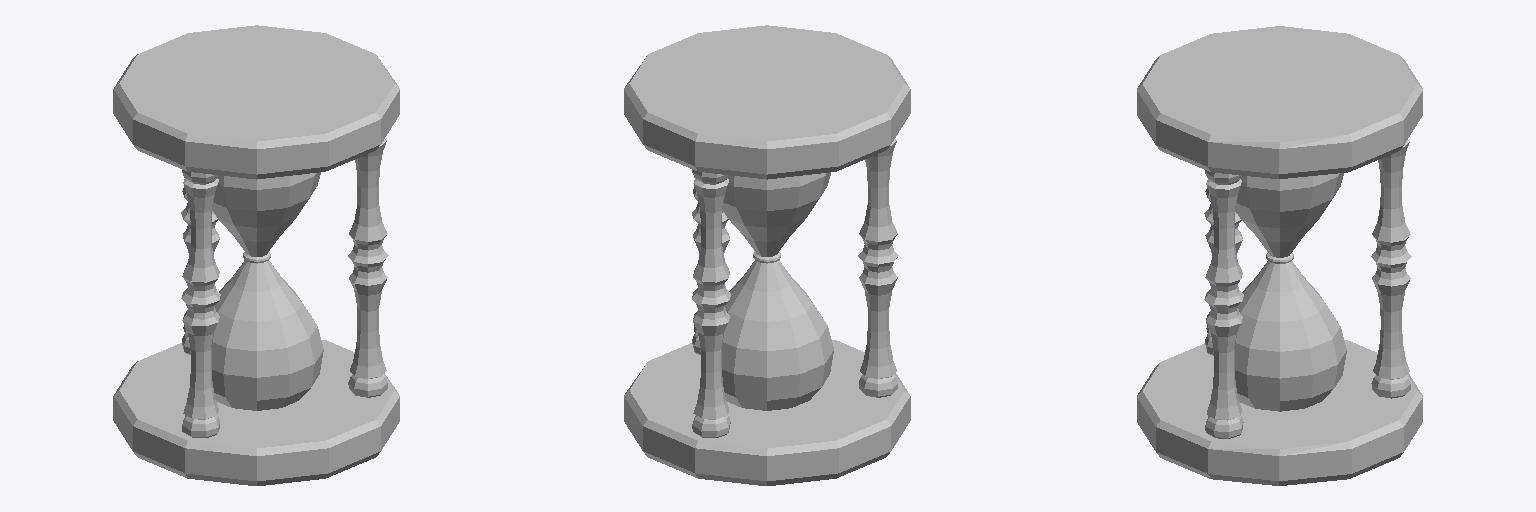
Rendered from hour glass.obj.
The picture shows the model from 3 angles: view 1: azimuth 30°, elevation 25°; view 2: azimuth 150°, elevation 25°; view 3: azimuth 270°, elevation 25°; orthographic projection.
Bounding box in the file's own units: 5.83 × 7.78 × 5.87.